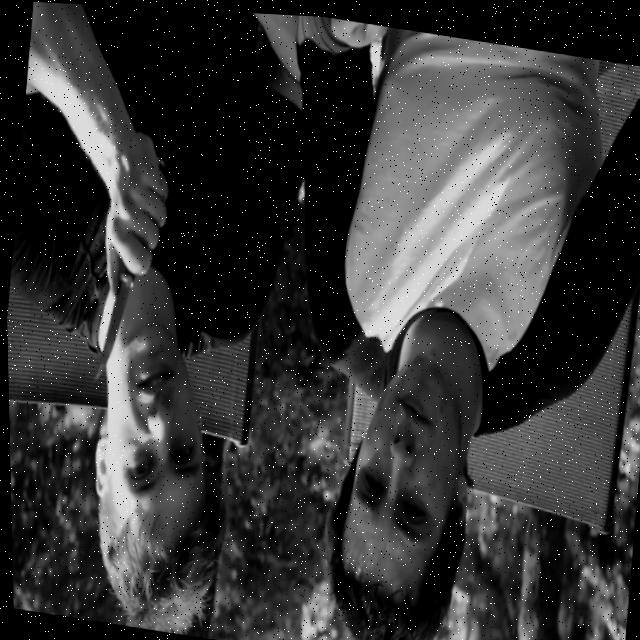knife: (89, 259, 135, 382)
